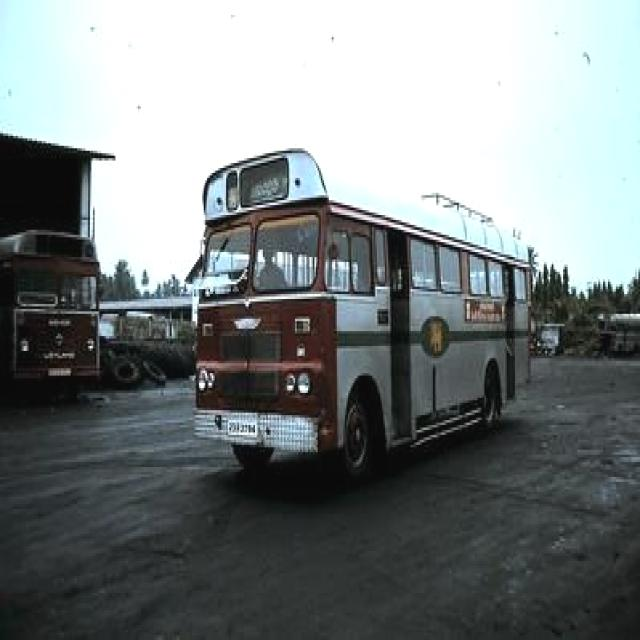Bus: (180, 144, 534, 489), (0, 222, 106, 400)
